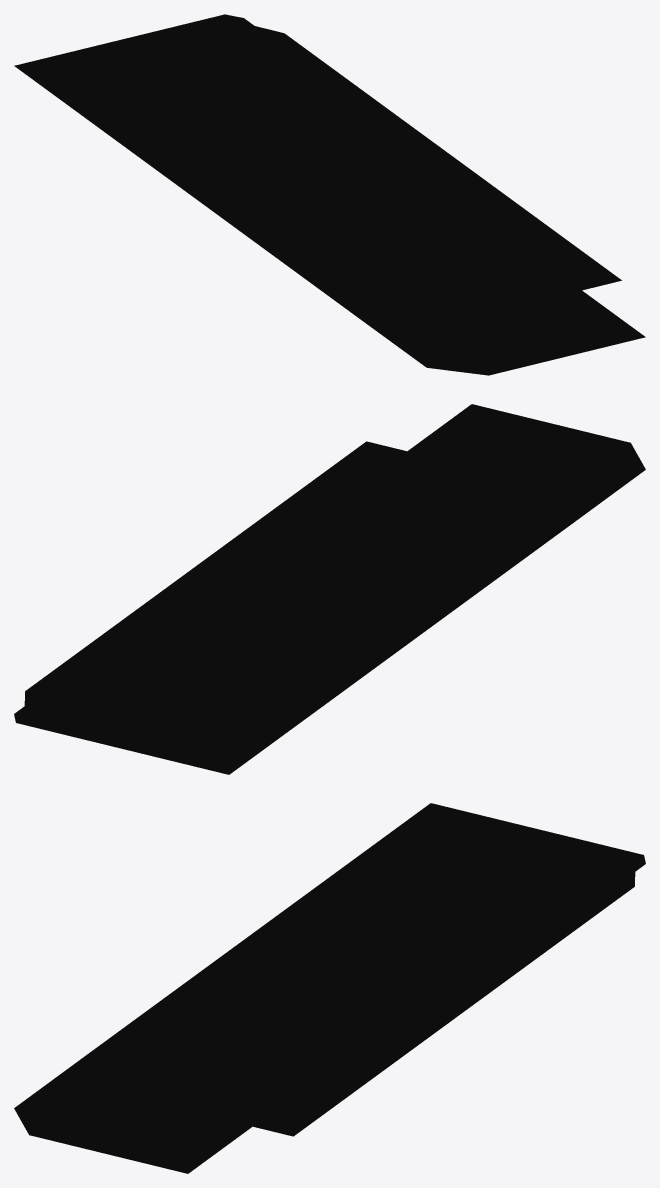
The picture shows the model from 3 angles, top to bottom: view 1: azimuth 30°, elevation 25°; view 2: azimuth 150°, elevation 25°; view 3: azimuth 330°, elevation 25°; orthographic projection.
Visible parts, largest first — view 1: Joint_0_Object_0; view 2: Joint_0_Object_0; view 3: Joint_0_Object_0.
Part boxes in pixels (x1,y1,x2,y2): Joint_0_Object_0: (14,14,645,375); Joint_0_Object_0: (14,404,645,774); Joint_0_Object_0: (14,803,645,1173).
Size of the model in its own units: 1591 by 1e-05 by 5086.
1 material, 1 textured.
